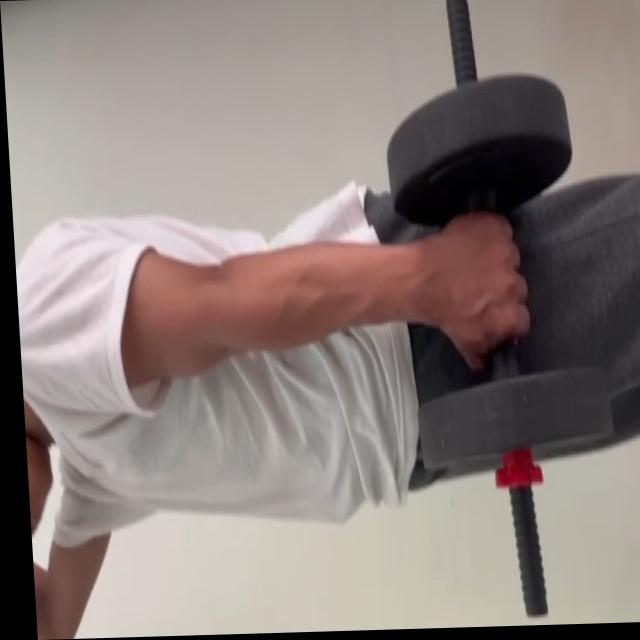hammer: (380, 67, 618, 472)
